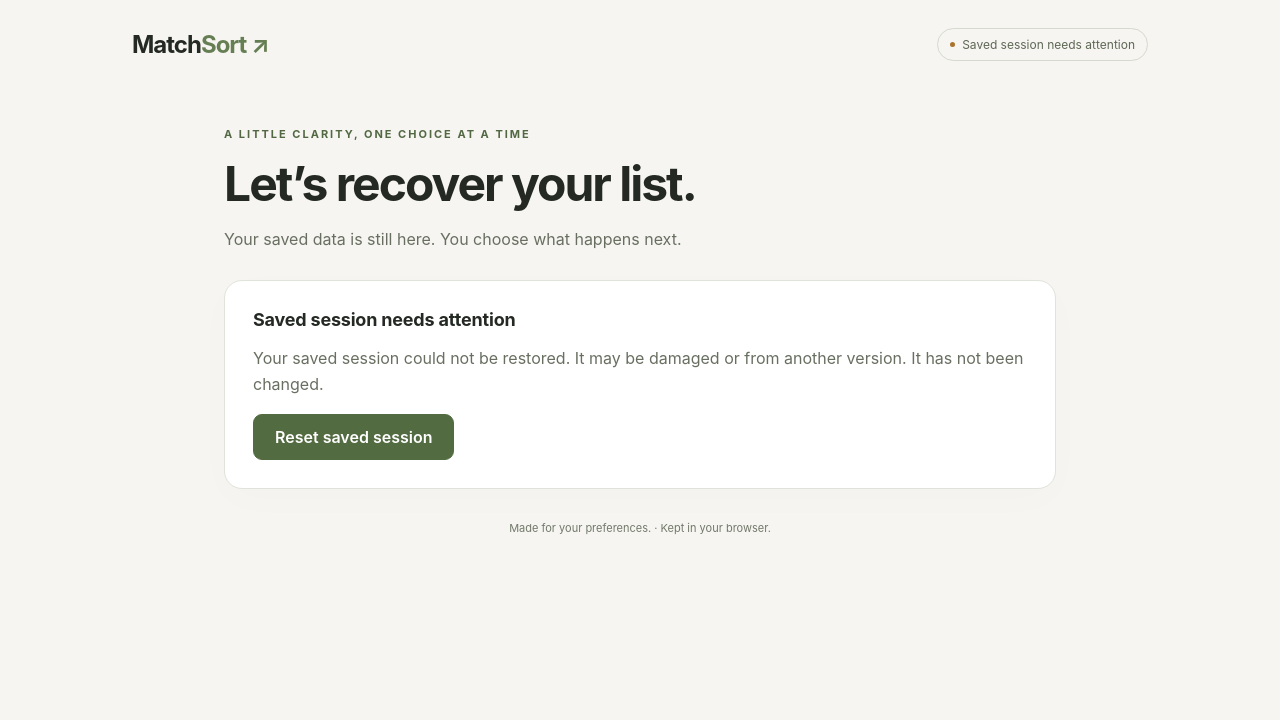
Scenario: does not overwrite invalid saved data before explicit reset
Expected: the text "could not be restored" is shown, [253,348,1024,394]
Click the button "Reset saved session" at (354, 436), box [253,414,454,460]
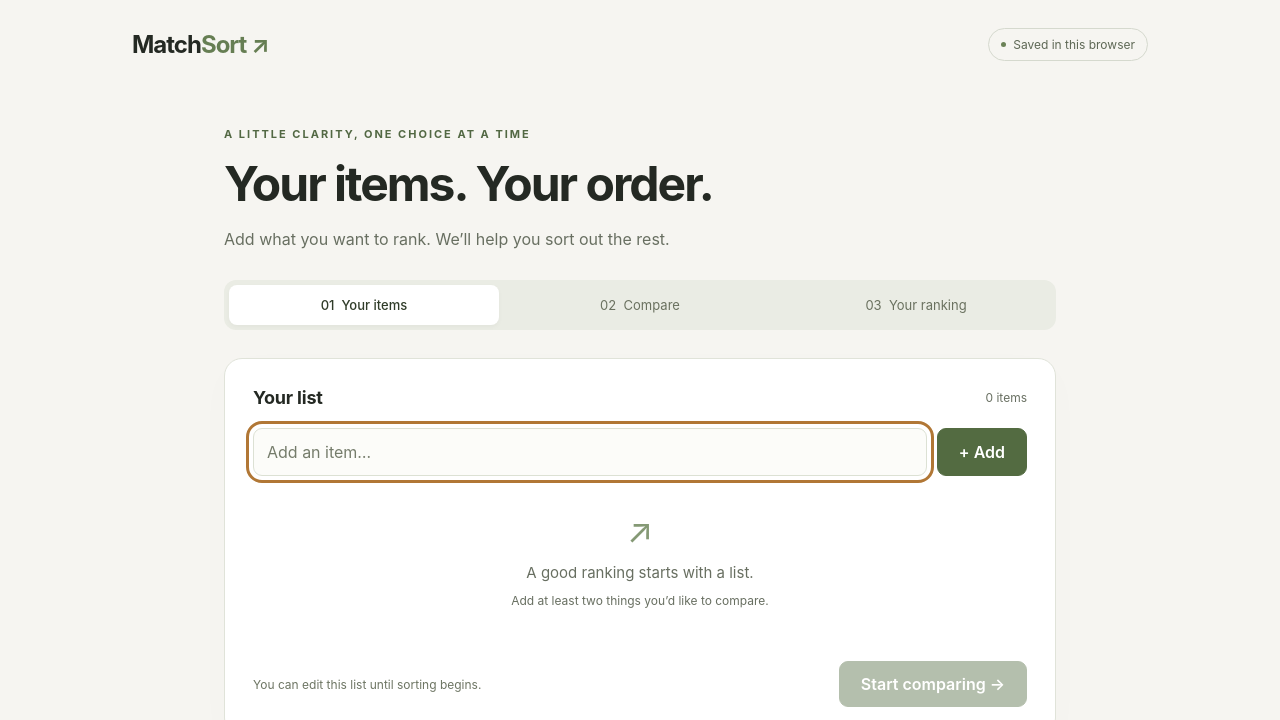
Now the field named "New item" is shown, box [253,428,927,476]
